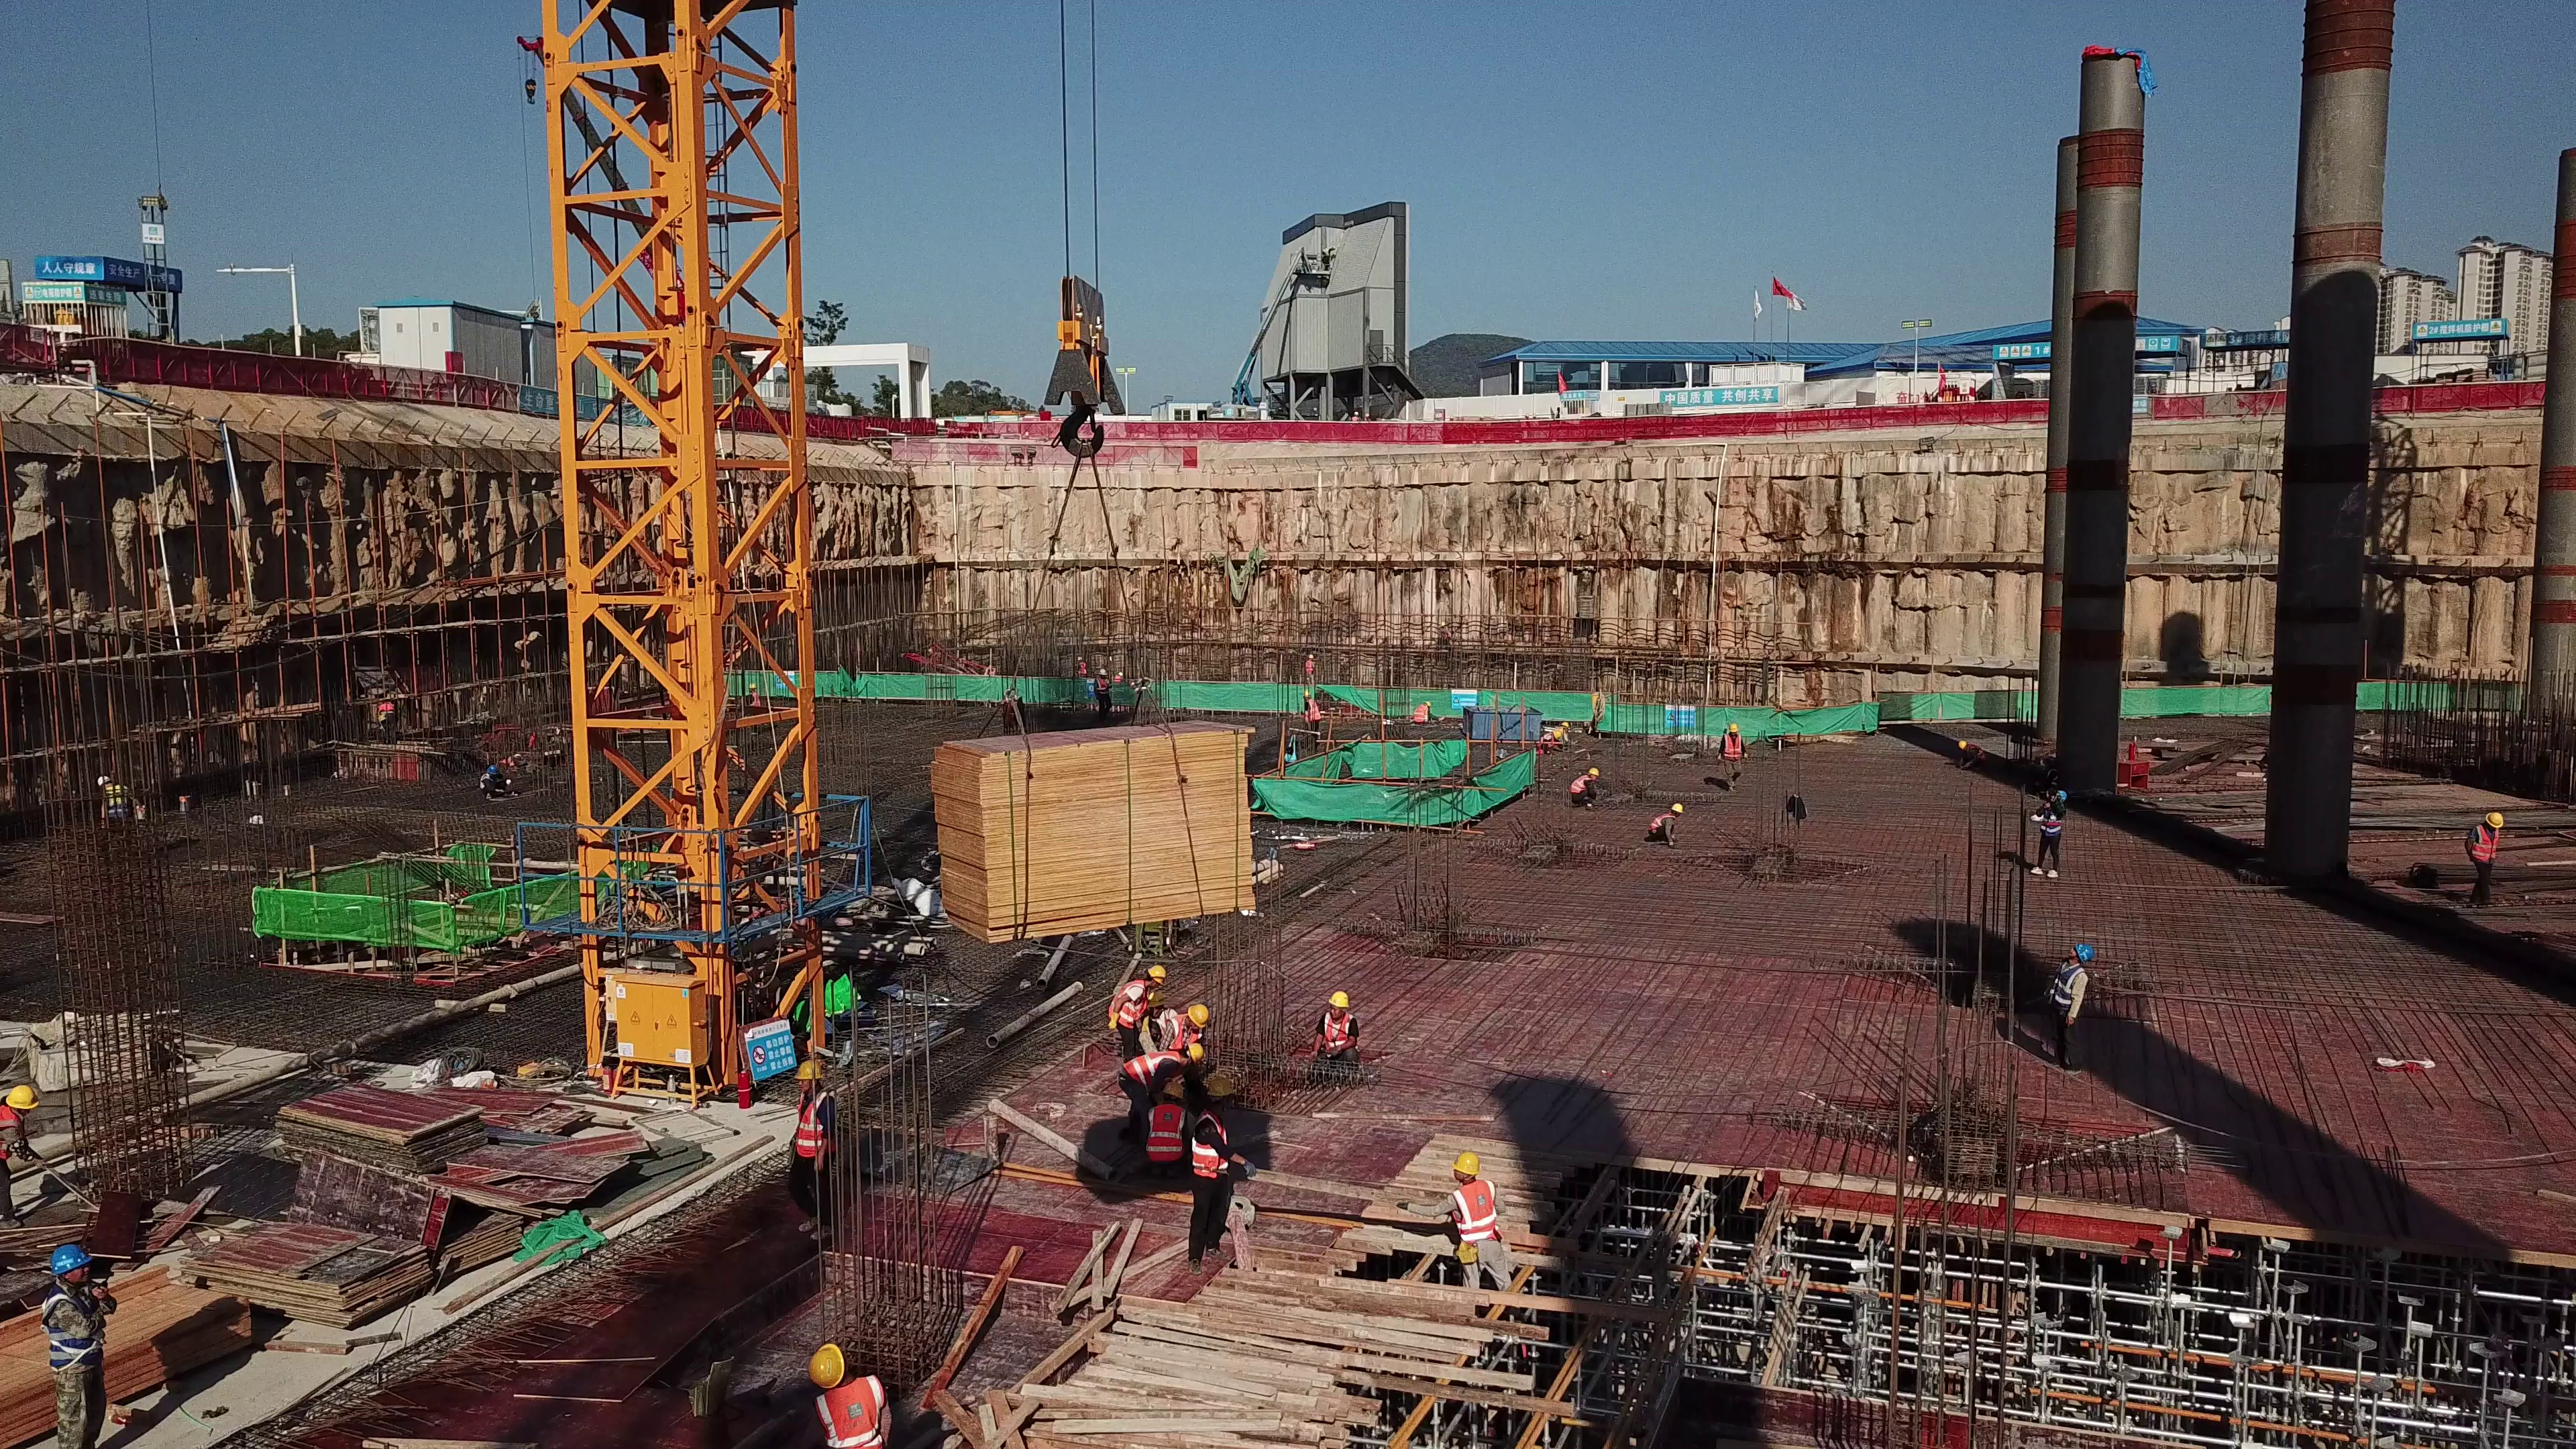helmet: (1, 1083, 40, 1110), (48, 1244, 87, 1270), (1205, 1073, 1237, 1102), (1450, 1152, 1482, 1175), (794, 1057, 823, 1085), (1185, 1002, 1207, 1026), (1160, 1075, 1184, 1095), (1325, 987, 1350, 1006), (1146, 962, 1171, 981), (2074, 941, 2094, 961), (1187, 1042, 1207, 1059), (2483, 810, 2503, 826), (2057, 788, 2067, 805), (1301, 688, 1314, 699), (1673, 802, 1684, 814), (1728, 721, 1739, 733), (1957, 739, 1965, 751), (1099, 665, 1108, 676), (1421, 697, 1431, 706), (1307, 653, 1313, 661), (1077, 655, 1084, 661)
person: (1423, 1152, 1513, 1348), (40, 1246, 127, 1439), (785, 1053, 855, 1241), (798, 1341, 912, 1449), (1194, 1075, 1249, 1273), (2044, 940, 2102, 1079), (1103, 961, 1160, 1057), (1311, 987, 1368, 1074), (2460, 811, 2510, 908), (1124, 1035, 1213, 1081), (1, 1076, 36, 1197), (1155, 1075, 1194, 1179), (2031, 787, 2065, 882), (1640, 798, 1696, 854), (1159, 998, 1214, 1043), (1716, 720, 1748, 792), (470, 759, 513, 806), (1563, 767, 1603, 812), (1536, 720, 1580, 758), (1298, 690, 1328, 743), (1949, 740, 1985, 777), (745, 674, 764, 730), (379, 700, 401, 743), (1409, 697, 1441, 728), (1304, 646, 1323, 686), (1096, 663, 1112, 719), (1340, 409, 1368, 423), (1074, 653, 1089, 675), (1113, 668, 1131, 684)
vest: (50, 1278, 107, 1366), (818, 1386, 886, 1449), (1193, 1119, 1242, 1188), (1459, 1179, 1500, 1243), (799, 1093, 830, 1162), (2052, 962, 2087, 1016), (1155, 1104, 1186, 1157), (1, 1108, 29, 1163), (1322, 1016, 1356, 1057), (1128, 1053, 1181, 1077), (1113, 980, 1141, 1024), (2473, 826, 2500, 866), (101, 791, 130, 820), (2039, 801, 2062, 835), (1650, 814, 1673, 835), (1570, 775, 1589, 796), (1723, 736, 1743, 758), (1966, 743, 1984, 760), (1308, 700, 1320, 722), (1097, 680, 1109, 698), (1414, 705, 1426, 722), (1305, 661, 1315, 677), (1541, 733, 1554, 744), (1114, 675, 1121, 682)
